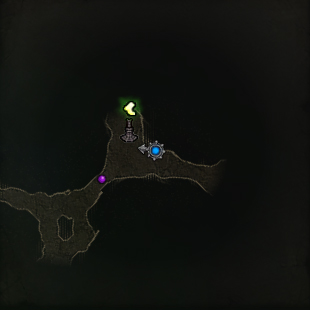SpeedPylon: (118, 98, 139, 143)
